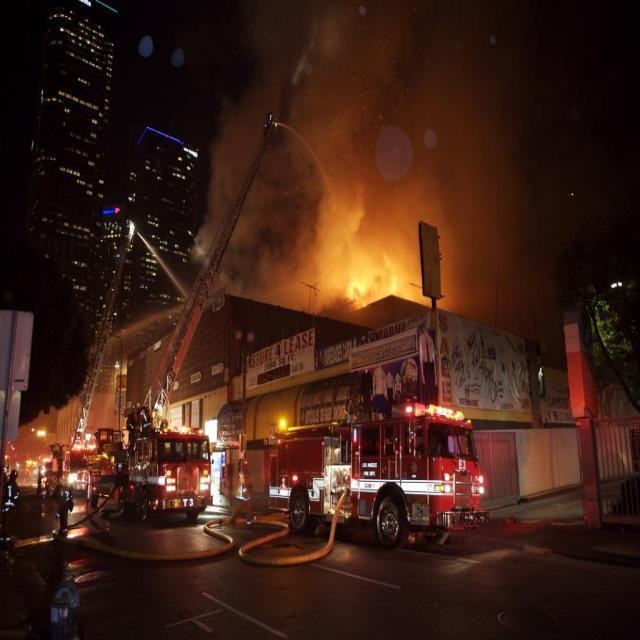Smoke: (252, 22, 504, 176), (212, 168, 279, 288)
